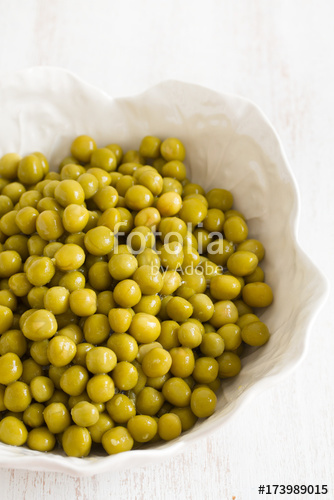boiled peas: (4, 132, 275, 465)
